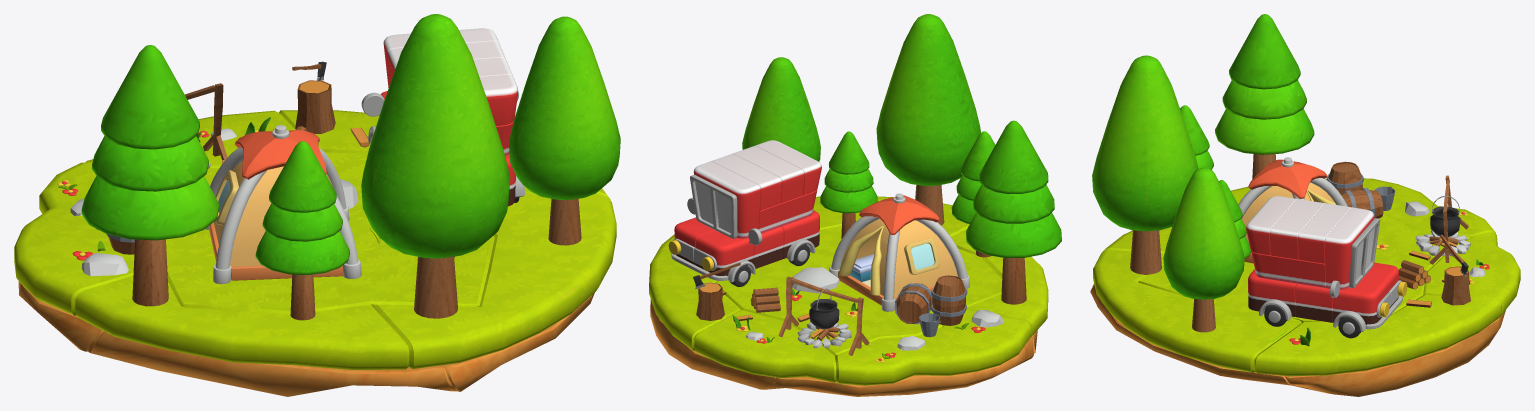
File: Level_P_02.fbx
The picture shows the model from 3 angles, left to right: view 1: azimuth 30°, elevation 25°; view 2: azimuth 150°, elevation 25°; view 3: azimuth 270°, elevation 25°; orthographic projection. The views are drawn at different scales.
Parts seen in each view (by area): view 1: Board_035, Board_029.001, Board_028.001, Board_035.001, Board_012.001, Board_030.001, Board_023, Board_033.001, Board_031.001, Board_032.001, Board_033, Board_031 (+24 smaller); view 2: Board_035, Board_012.001, Board_030.001, Board_027.001, Board_035.001, Board_026.001, Board_022, Board_033.001, Board_031.001, Board_028.001, Board_032.001, Board_024 (+39 smaller); view 3: Board_035, Board_026.001, Board_029.001, Board_035.001, Board_024, Board_012.001, Board_027.001, Board_033.001, Board_031.001, Board_032.001, Car_10, Board_030.001 (+21 smaller).
Boxes of the visible parts, box(x1,y1,x2,y2) form: Board_035: box(361, 14, 510, 258); Board_029.001: box(373, 194, 616, 368); Board_028.001: box(75, 276, 409, 369); Board_035.001: box(509, 16, 620, 199); Board_012.001: box(166, 152, 494, 314); Board_030.001: box(14, 162, 134, 315); Board_023: box(89, 331, 456, 396); Board_033.001: box(101, 45, 199, 149); Board_031.001: box(81, 176, 219, 240); Board_032.001: box(92, 136, 208, 191); Board_033: box(269, 141, 336, 212); Board_031: box(255, 231, 349, 274); Board_035: box(876, 14, 980, 185); Board_012.001: box(715, 225, 1002, 356); Board_030.001: box(835, 309, 1030, 385); Board_027.001: box(694, 310, 836, 382); Board_035.001: box(742, 57, 820, 161); Board_026.001: box(649, 234, 740, 350); Board_022: box(763, 336, 1033, 396); Board_033.001: box(979, 120, 1048, 193); Board_031.001: box(966, 213, 1061, 257); Board_028.001: box(951, 229, 1048, 337); Board_032.001: box(973, 184, 1054, 223); Board_024: box(650, 299, 775, 389); Board_035: box(1092, 55, 1198, 231); Board_026.001: box(1254, 295, 1501, 376); Board_029.001: box(1093, 249, 1301, 372); Board_035.001: box(1163, 167, 1244, 299); Board_024: box(1285, 310, 1505, 396); Board_012.001: box(1138, 215, 1469, 322); Board_027.001: box(1423, 232, 1520, 316); Board_033.001: box(1229, 14, 1300, 89); Board_031.001: box(1215, 109, 1314, 154); Board_032.001: box(1222, 80, 1306, 119); Car_10: box(1324, 207, 1374, 289); Board_030.001: box(1326, 178, 1495, 237).
Size of the model in its own units: 30.75 by 20.32 by 30.34.
